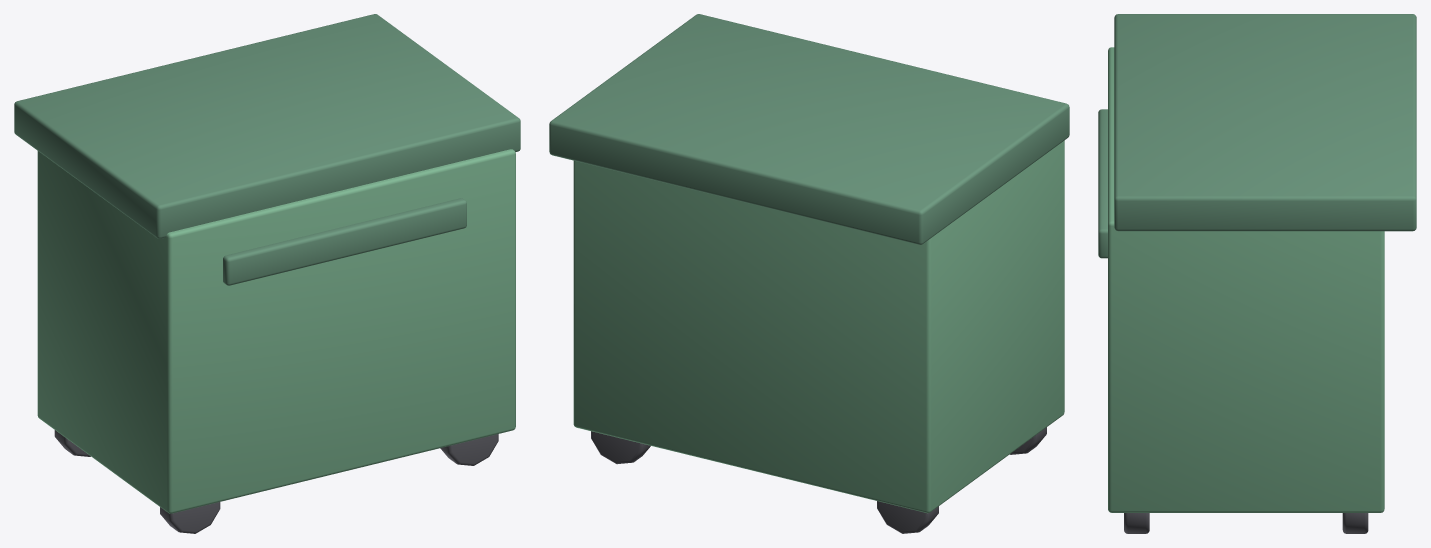
Rendered from th6_muellcontainer.glb.
3 renders of one model, left to right at view 1: azimuth 30°, elevation 25°; view 2: azimuth 150°, elevation 25°; view 3: azimuth 270°, elevation 25°, orthographic. The views are drawn at different scales.
Parts seen in each view (by area): view 1: Cube, Cube.001, Cube.002, Cylinder, Cylinder.001; view 2: Cube, Cube.001, Cylinder.002, Cylinder.003; view 3: Cube, Cube.001, Cube.002, Cylinder.003, Cylinder.001.
Part boxes in pixels (x1,y1,x2,y2): Cube: (37,149,515,513); Cube.001: (14,14,520,238); Cube.002: (223,198,466,285); Cylinder: (160,502,220,533); Cylinder.001: (440,434,498,465); Cube: (573,140,1064,513); Cube.001: (549,14,1069,244); Cylinder.002: (877,501,938,533); Cylinder.003: (591,431,650,464); Cube: (1108,47,1384,512); Cube.001: (1114,14,1416,231); Cube.002: (1098,109,1107,258); Cylinder.003: (1342,513,1368,533); Cylinder.001: (1124,513,1149,533).
Size of the model in its own units: 1.36 by 1.22 by 0.99.
